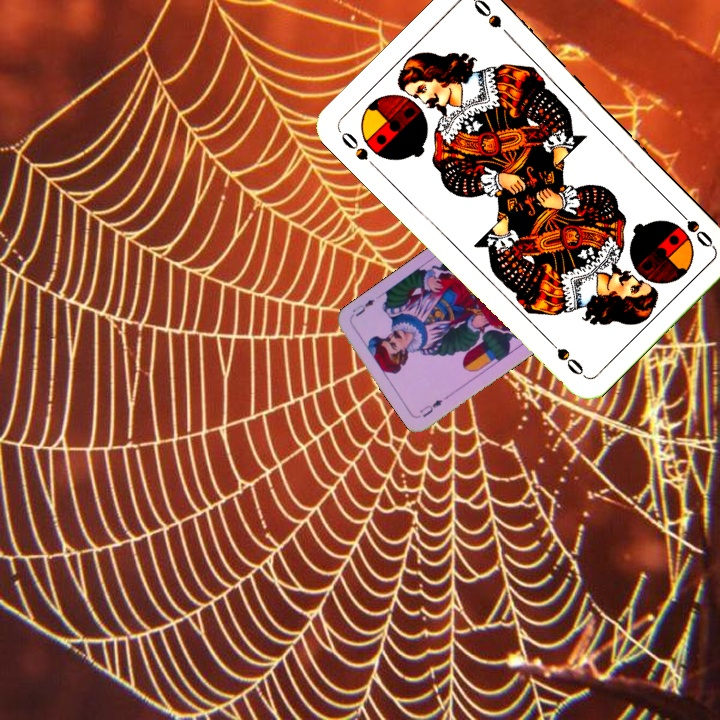EU: (416, 395, 445, 420)
SO: (670, 203, 716, 251), (335, 127, 382, 173)
